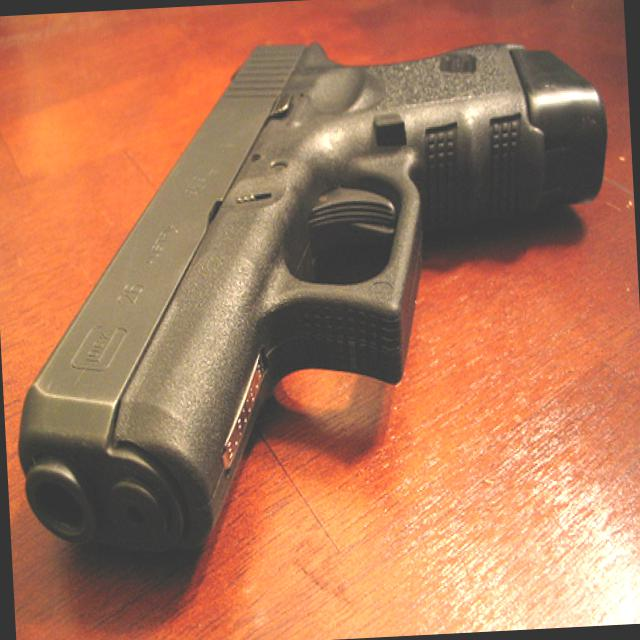handgun: (0, 21, 625, 575)
